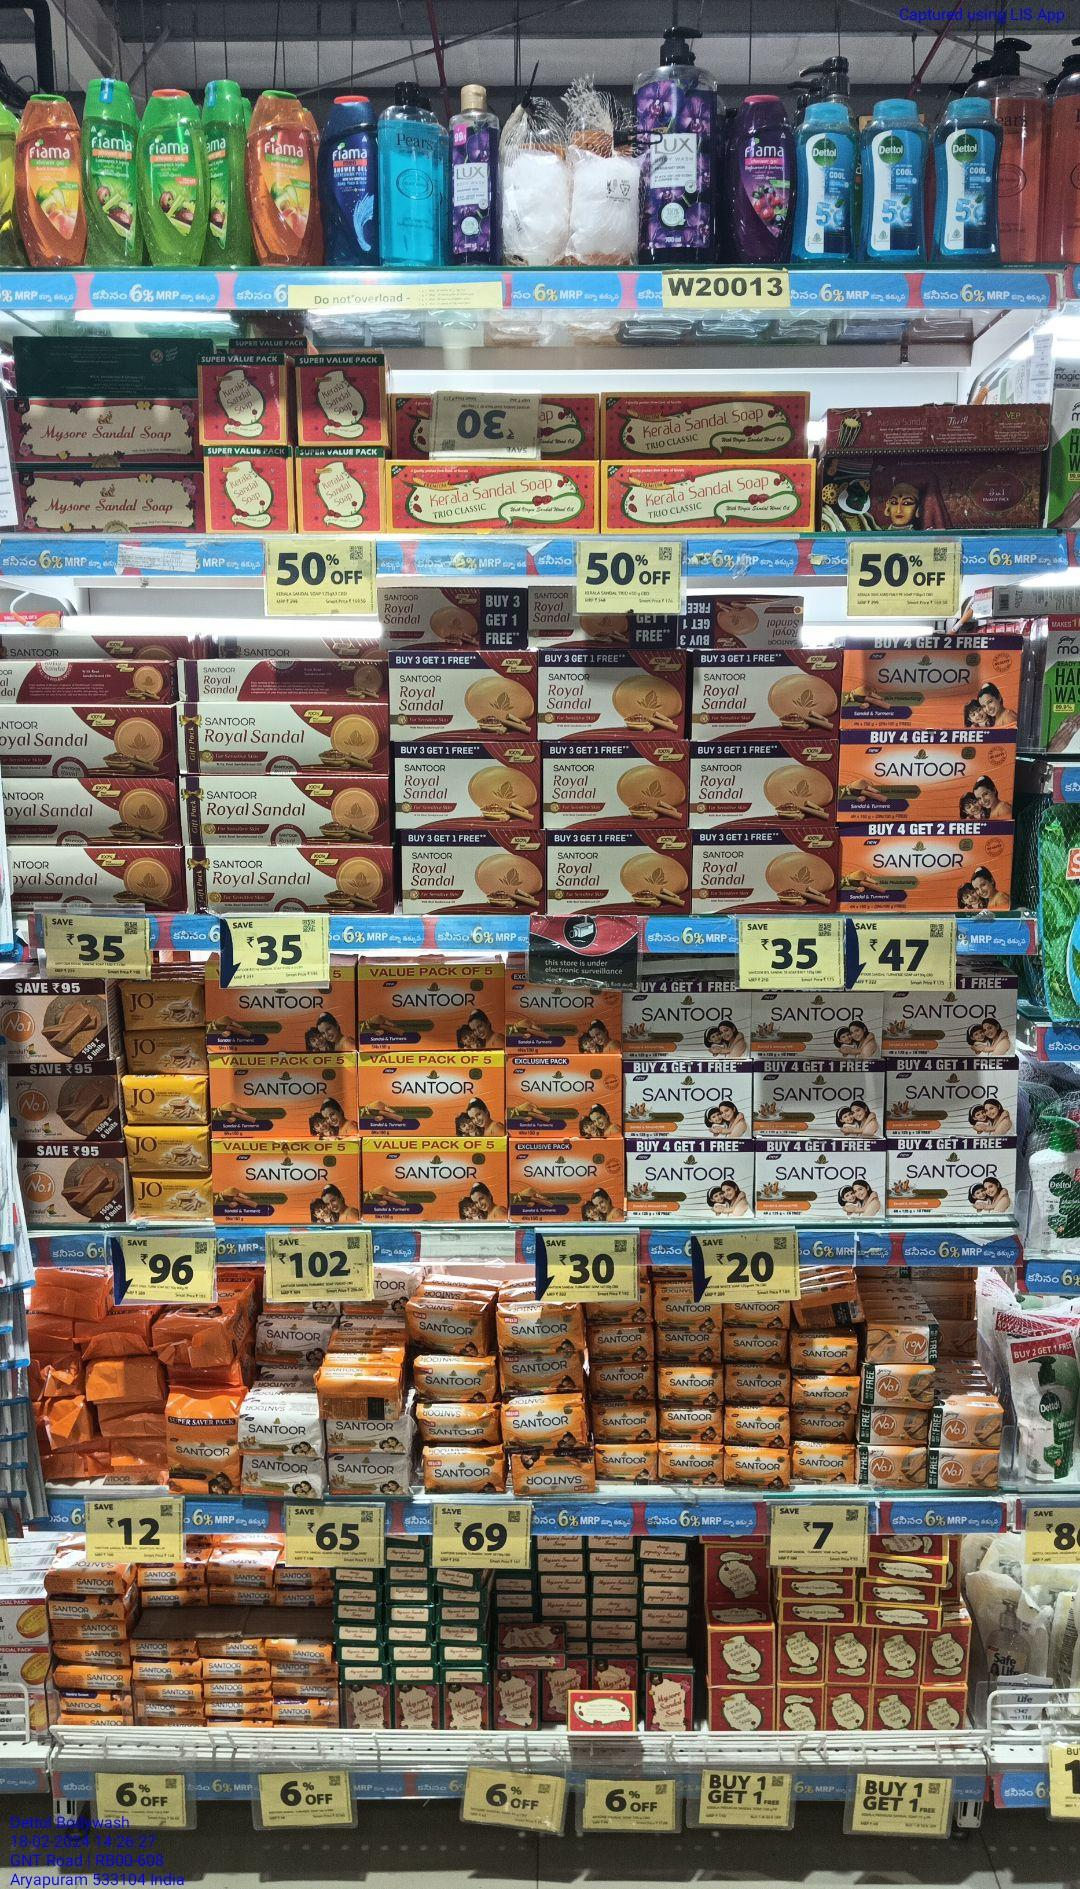Dettol_Bodywash_Cool: (855, 97, 929, 263), (933, 95, 1000, 267), (793, 102, 857, 262)
Fiama_Shower_Gel_Lemongrass_and_Jojoba_250ML: (136, 86, 208, 266)
Fiama_Shower_Gel_Peach_and_Avocado_250ML: (248, 88, 319, 263), (17, 93, 82, 267)
Lux_Black_Orchid_Scent_and_Juniper_Oil_Body_Wash_245ML: (449, 83, 495, 263)
Pears_Pure_Glycerin_and_Mint_Extracts_Body_Wash_250ML: (375, 80, 443, 263)
